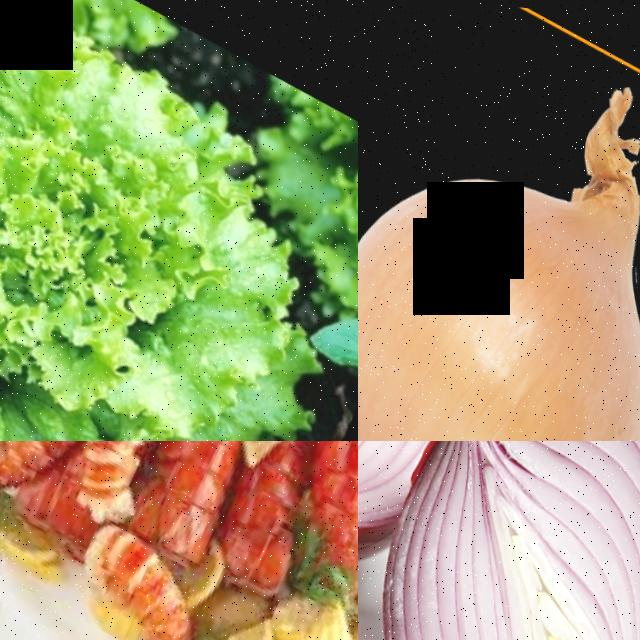lettuce: (0, 0, 355, 441)
lobster tails: (199, 441, 324, 595), (122, 441, 265, 565), (42, 441, 187, 521), (282, 441, 358, 532)
onion: (358, 66, 640, 441), (358, 441, 640, 640), (358, 441, 476, 614)
